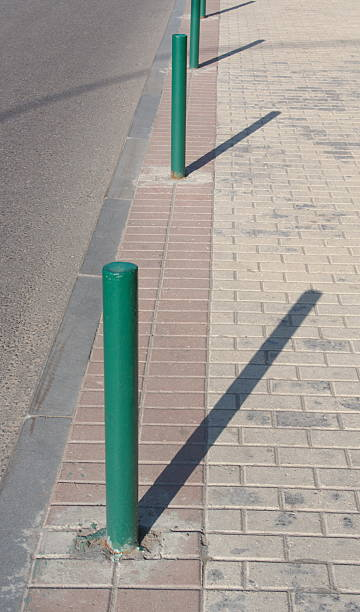bollard: (88, 259, 149, 572), (164, 28, 193, 180)
